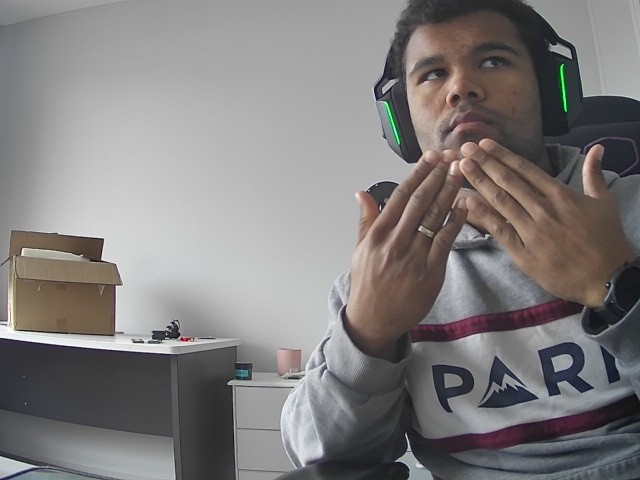ThankYou: (313, 131, 640, 332)
